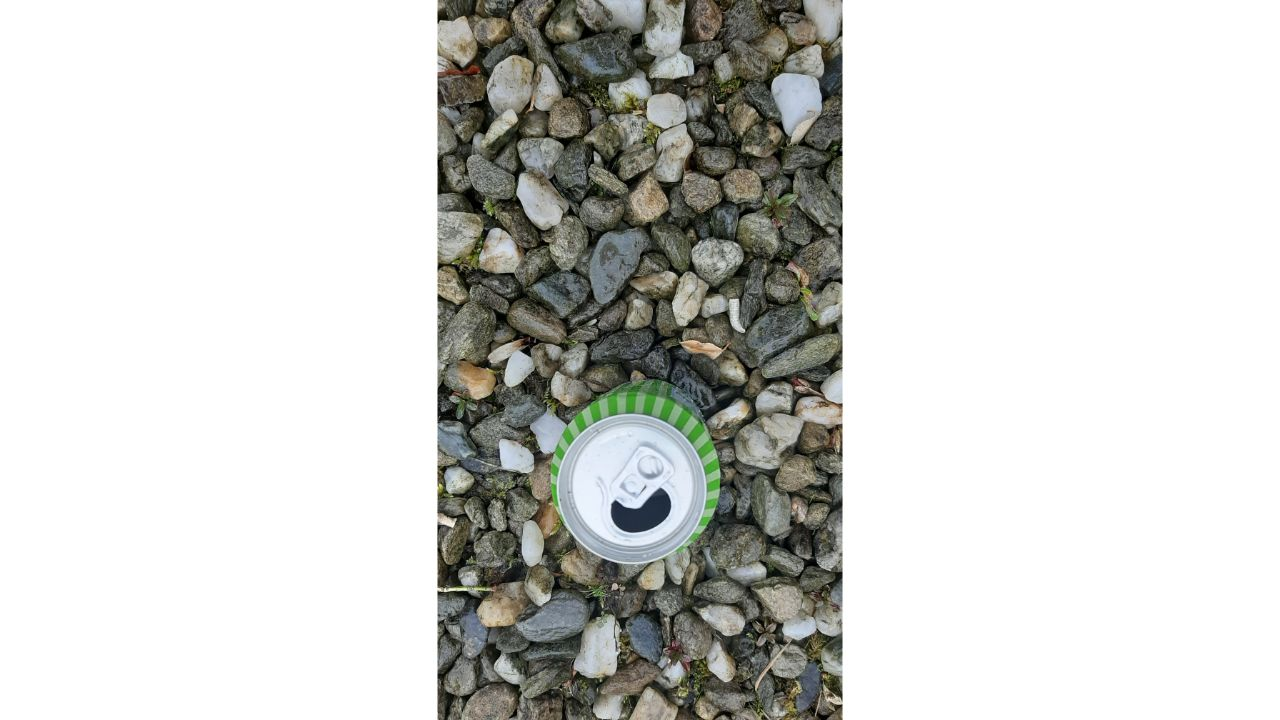Can: (534, 363, 743, 578)
